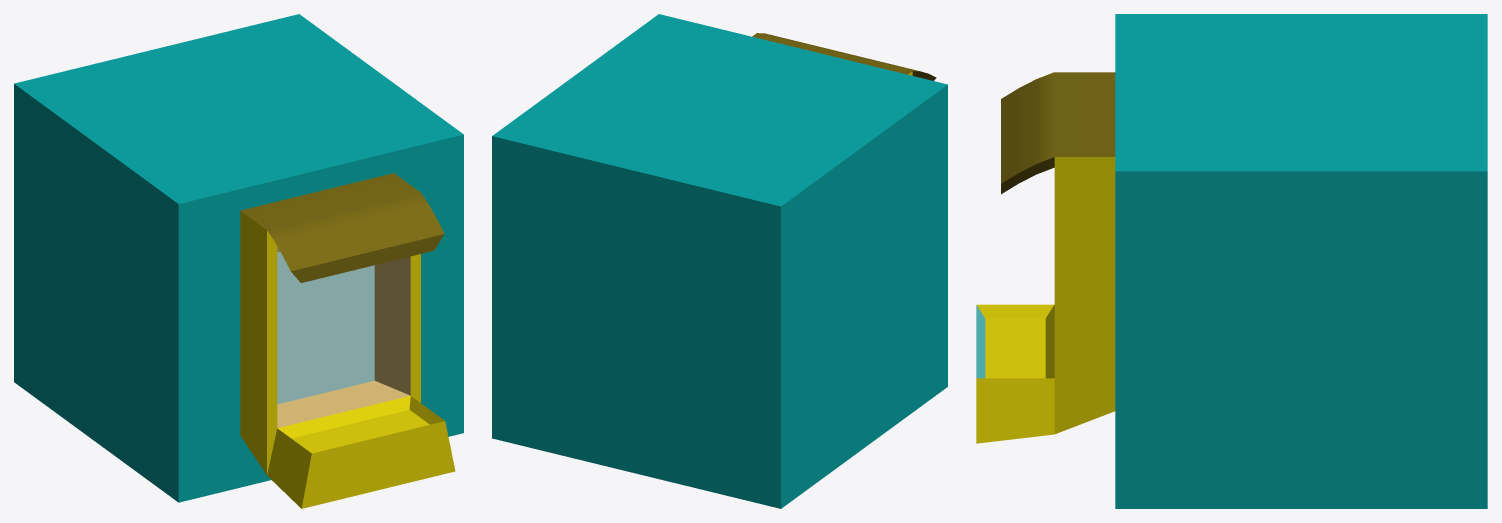
The model's file is 1Middle Block blueyellow.fbx.
3 renders of one model, left to right at view 1: azimuth 30°, elevation 25°; view 2: azimuth 150°, elevation 25°; view 3: azimuth 270°, elevation 25°, orthographic. The views are drawn at different scales.
Visible parts, largest first — view 1: pCube23, pCube22; view 2: pCube23, pCube22; view 3: pCube23, pCube22.
Boxes of the visible parts, x1=… form: pCube23: x1=14, y1=14, x2=463, y2=502; pCube22: x1=240, y1=173, x2=455, y2=508; pCube23: x1=492, y1=14, x2=947, y2=508; pCube22: x1=752, y1=33, x2=936, y2=80; pCube23: x1=1115, y1=14, x2=1487, y2=508; pCube22: x1=976, y1=72, x2=1115, y2=443.
Size of the model in its own units: 2 by 2 by 2.75.
